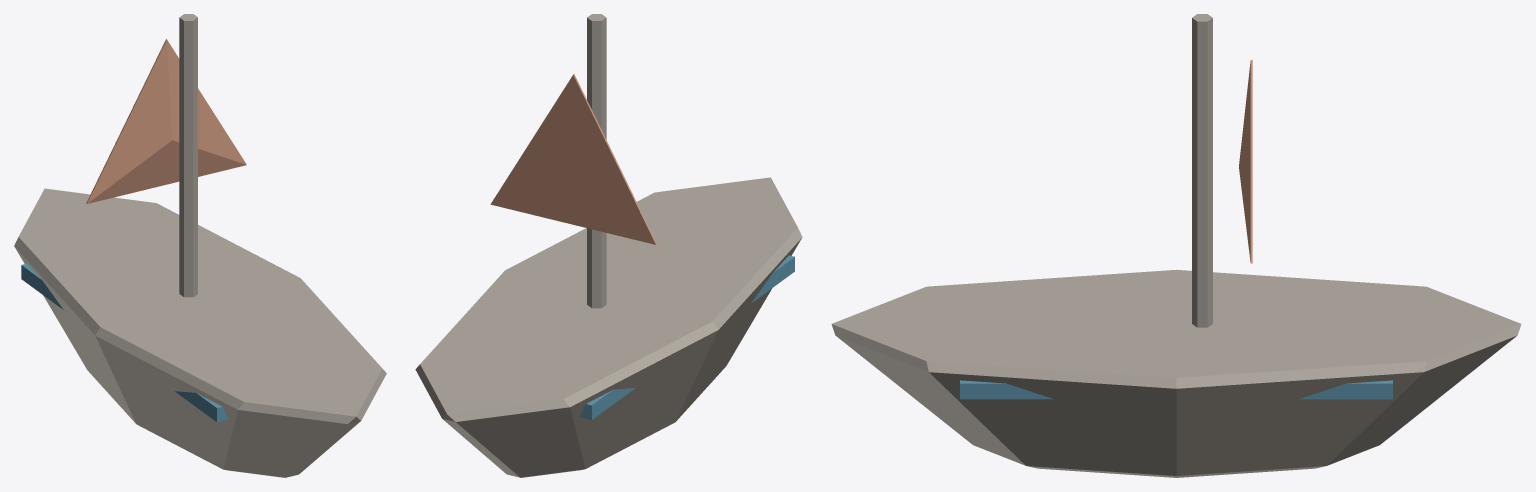
Rendered from TC_PROP_ToyBoat_V1.gltf.
3 renders of one model, left to right at view 1: azimuth 30°, elevation 25°; view 2: azimuth 150°, elevation 25°; view 3: azimuth 270°, elevation 25°, orthographic. The views are drawn at different scales.
Parts seen in each view (by area): view 1: TC_Boat_Hull, TC_Boat_Sail, TC_Boat_Mast, TC_Boat_Stripe; view 2: TC_Boat_Hull, TC_Boat_Sail, TC_Boat_Mast, TC_Boat_Stripe; view 3: TC_Boat_Hull, TC_Boat_Mast, TC_Boat_Stripe, TC_Boat_Sail.
Boxes of the visible parts, box(x1,y1,x2,y2) form: TC_Boat_Hull: box(14, 188, 386, 477); TC_Boat_Sail: box(86, 39, 246, 203); TC_Boat_Mast: box(179, 14, 197, 297); TC_Boat_Stripe: box(21, 263, 228, 422); TC_Boat_Hull: box(415, 177, 802, 477); TC_Boat_Sail: box(490, 74, 657, 244); TC_Boat_Mast: box(587, 14, 606, 308); TC_Boat_Stripe: box(580, 255, 794, 419); TC_Boat_Hull: box(831, 269, 1521, 477); TC_Boat_Mast: box(1192, 14, 1212, 327); TC_Boat_Stripe: box(960, 380, 1392, 399); TC_Boat_Sail: box(1239, 60, 1252, 263).
Bounding box in the file's own units: 0.3111 × 0.55 × 0.7967.
